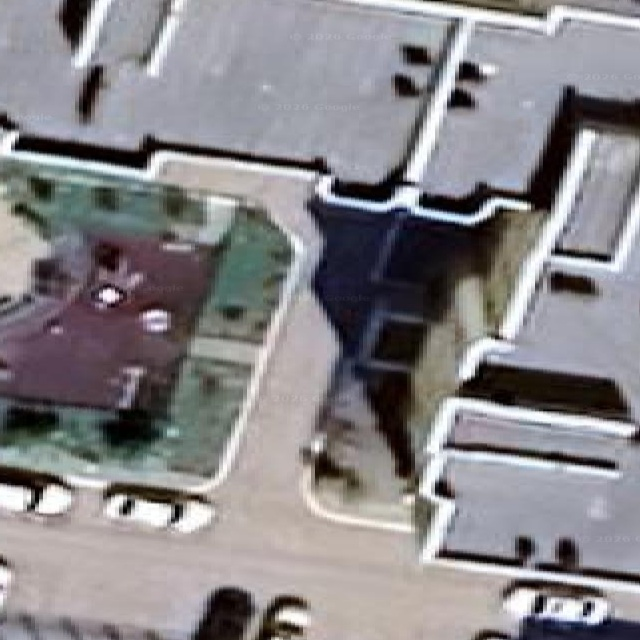car: (103, 486, 214, 533), (503, 585, 609, 626), (0, 469, 73, 515), (193, 587, 254, 639), (256, 595, 309, 639), (0, 558, 12, 611)
